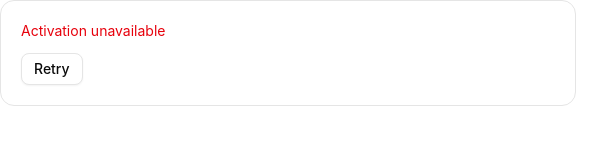
Test: workspace activation fallback › disables retry while an activation attempt is still in flight
Later steps or results of the test are not shown.
Check: the message "Activation unavailable" is shown, box top-left (21, 21), bottom-right (166, 41)
Click the button "Retry": (52, 69) top-left (21, 53), bottom-right (83, 85)
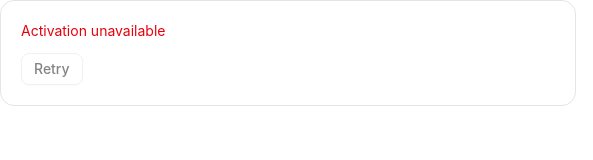
Check: the button "Retry" is disabled, box top-left (21, 53), bottom-right (83, 85)
